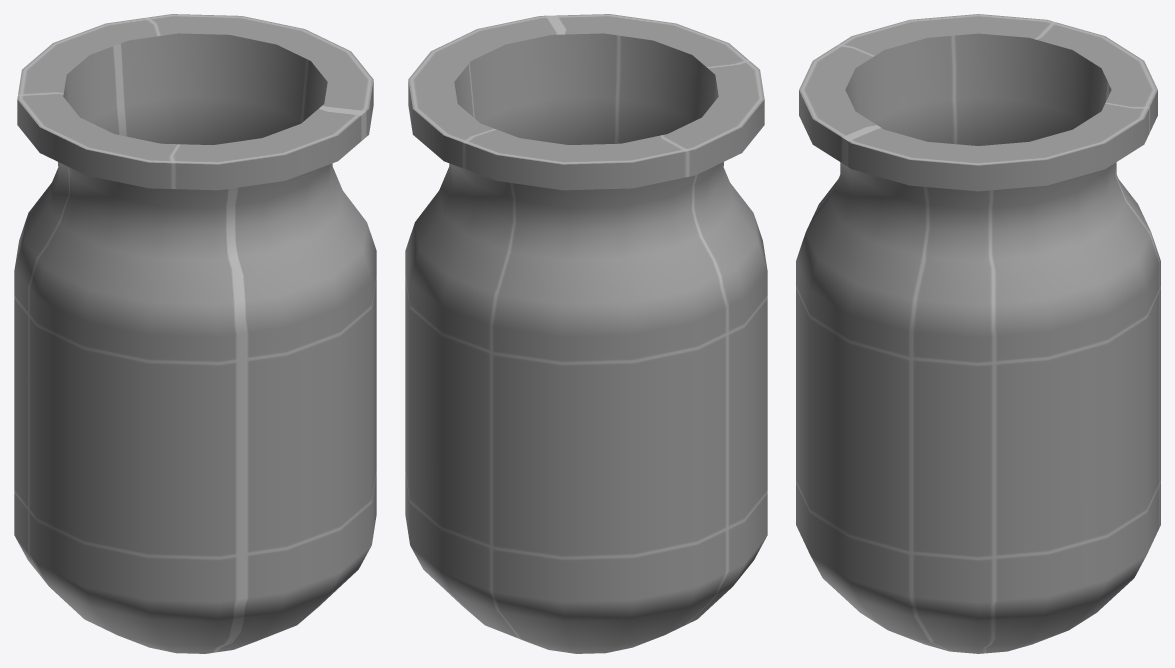
Rendered from Potjar_02.fbx.
3 renders of one model, left to right at view 1: azimuth 30°, elevation 25°; view 2: azimuth 150°, elevation 25°; view 3: azimuth 270°, elevation 25°, orthographic.
Parts seen in each view (by area): view 1: Potjar_02; view 2: Potjar_02; view 3: Potjar_02.
Boxes of the visible parts, box(x1,y1,x2,y2) form: Potjar_02: box(14, 14, 376, 653); Potjar_02: box(405, 14, 767, 653); Potjar_02: box(796, 14, 1160, 653).
Bounding box in the file's own units: 72.06 × 116 × 72.06.
